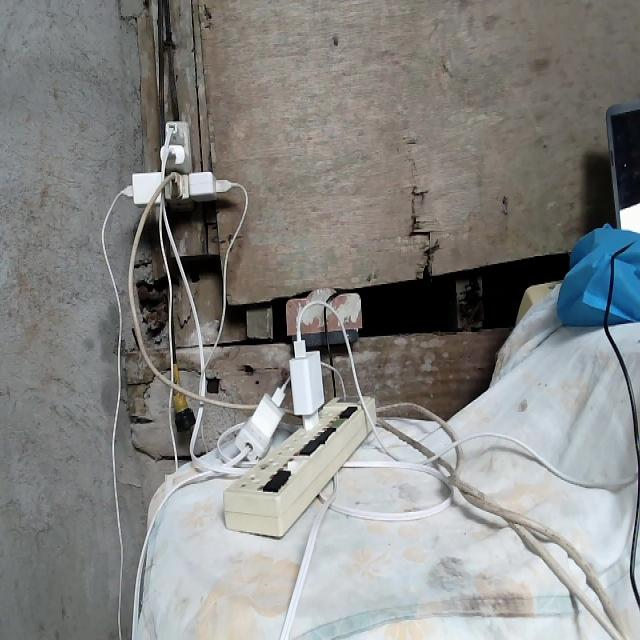-: (118, 117, 233, 205)
